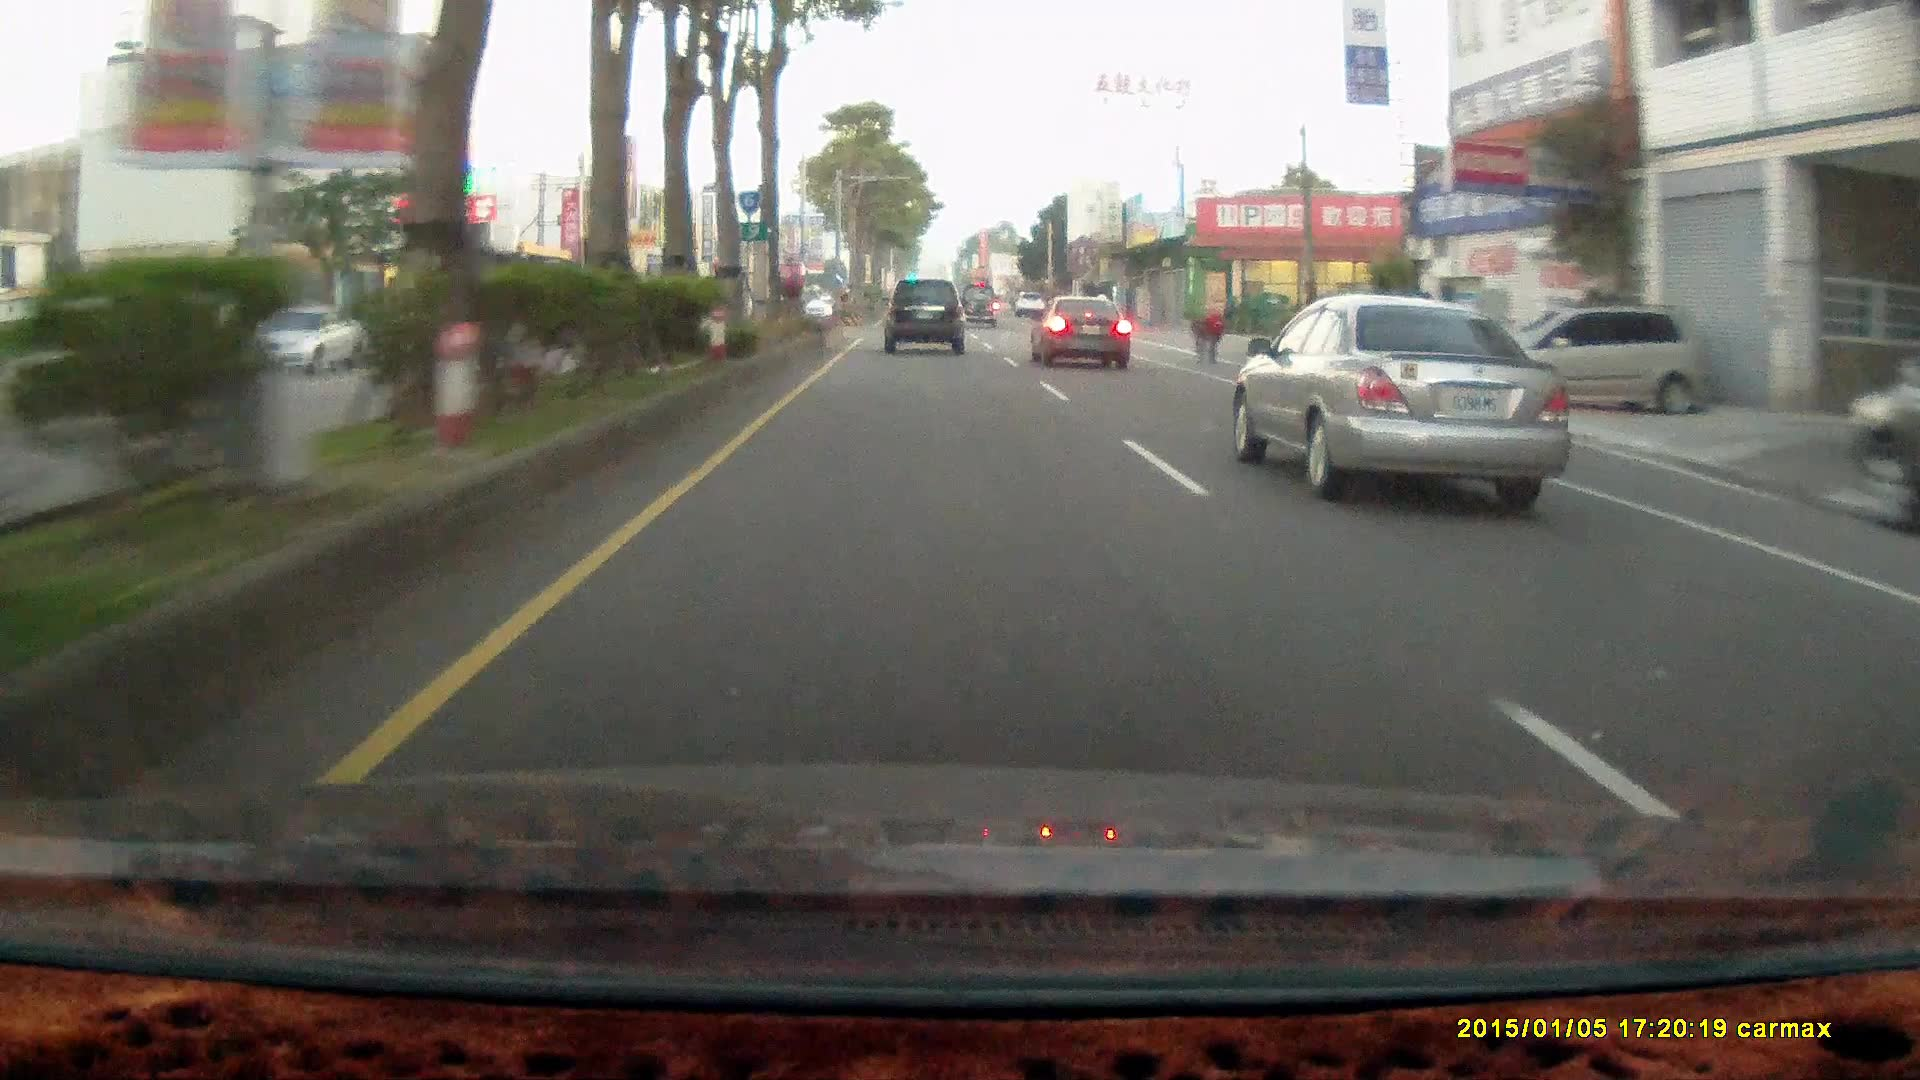pedestrian: (1201, 298, 1226, 364), (1202, 302, 1225, 363)
vehicle: (1238, 298, 1571, 504), (1480, 301, 1700, 415), (1504, 300, 1695, 414), (1847, 355, 1920, 533), (240, 302, 380, 383), (246, 302, 366, 376), (1030, 293, 1136, 371), (1029, 292, 1130, 370), (883, 282, 971, 359), (883, 278, 964, 353), (959, 278, 999, 324)
